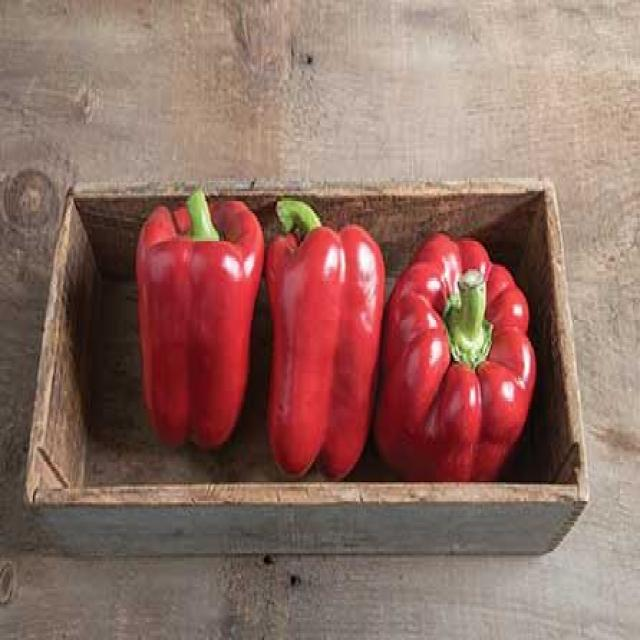pepper: (380, 230, 535, 480), (265, 200, 385, 481), (138, 192, 260, 445)
